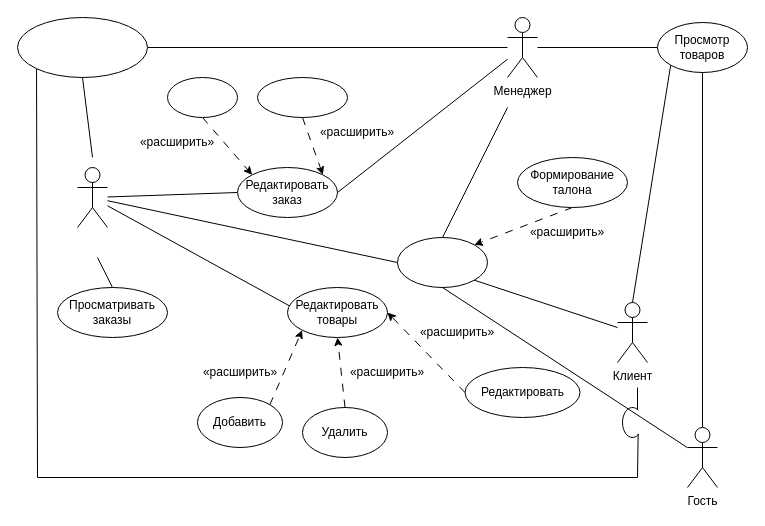
The diagram is 765 pixels wide and 526 high, and some of its shapes have lost their labels. Here are the shapes that lost their labels. From the top down, the centre of each, then its label:
At [82,47]: "Авторизация".
At [202,97]: "Статус".
At [302,97]: "Дата доставки".
At [92,197]: "Администратор".
At [442,262]: "Формировать заказ".
